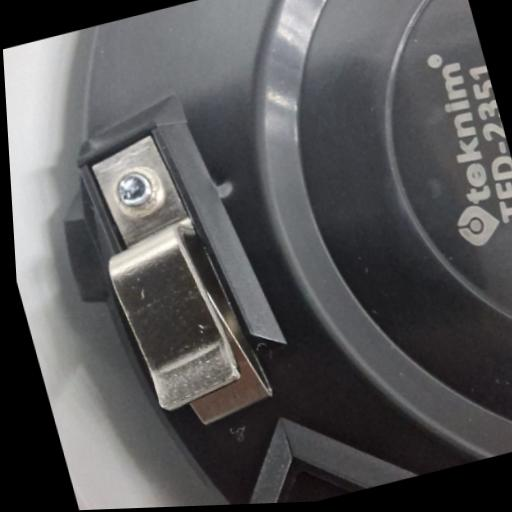yayli: (70, 112, 280, 434)
